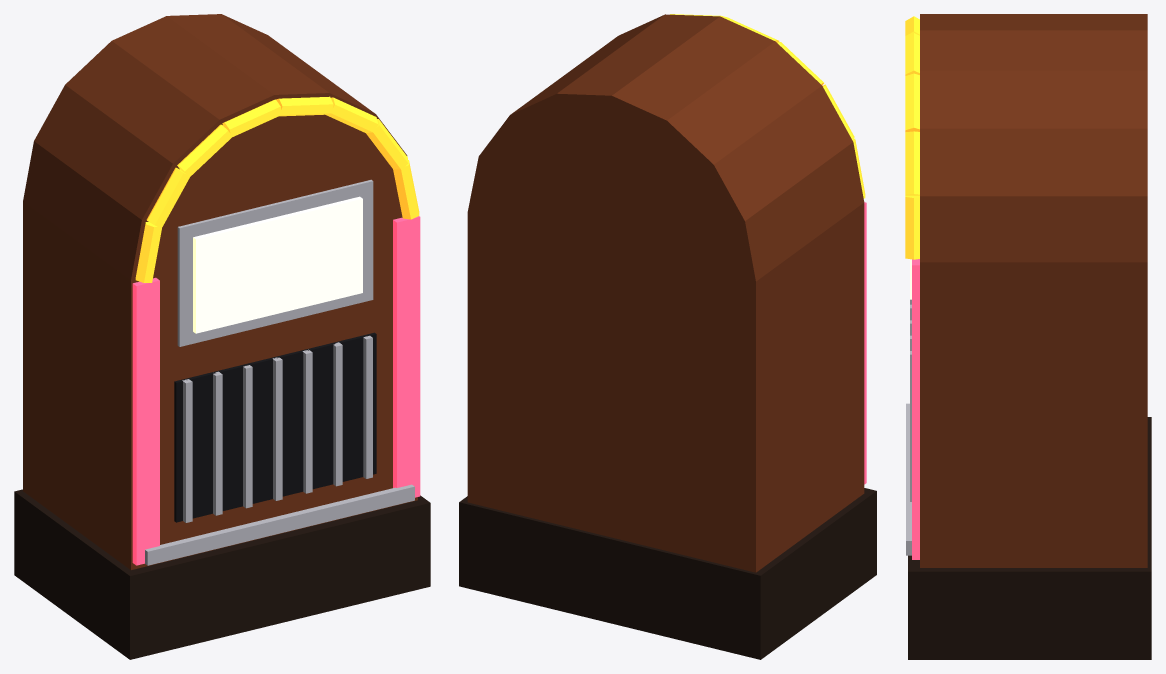
The model's file is jukebox.glb.
The picture shows the model from 3 angles, left to right: view 1: azimuth 30°, elevation 25°; view 2: azimuth 150°, elevation 25°; view 3: azimuth 270°, elevation 25°; orthographic projection. The views are drawn at different scales.
Parts seen in each view (by area): view 1: Jukebox; view 2: Jukebox; view 3: Jukebox.
Boxes of the visible parts, bbox=[...] form: Jukebox: bbox=[14, 14, 430, 659]; Jukebox: bbox=[459, 14, 876, 659]; Jukebox: bbox=[905, 14, 1151, 659].
Bounding box in the file's own units: 0.9 × 1.5 × 0.6067.
